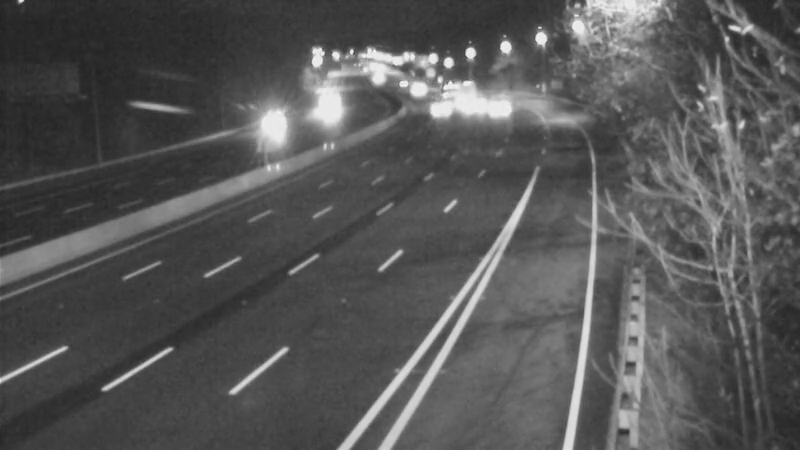vehicle: (419, 63, 469, 113), (390, 62, 440, 112), (442, 65, 492, 115), (473, 82, 523, 132), (442, 83, 492, 133), (415, 85, 465, 135), (248, 100, 298, 150), (300, 84, 350, 134)
